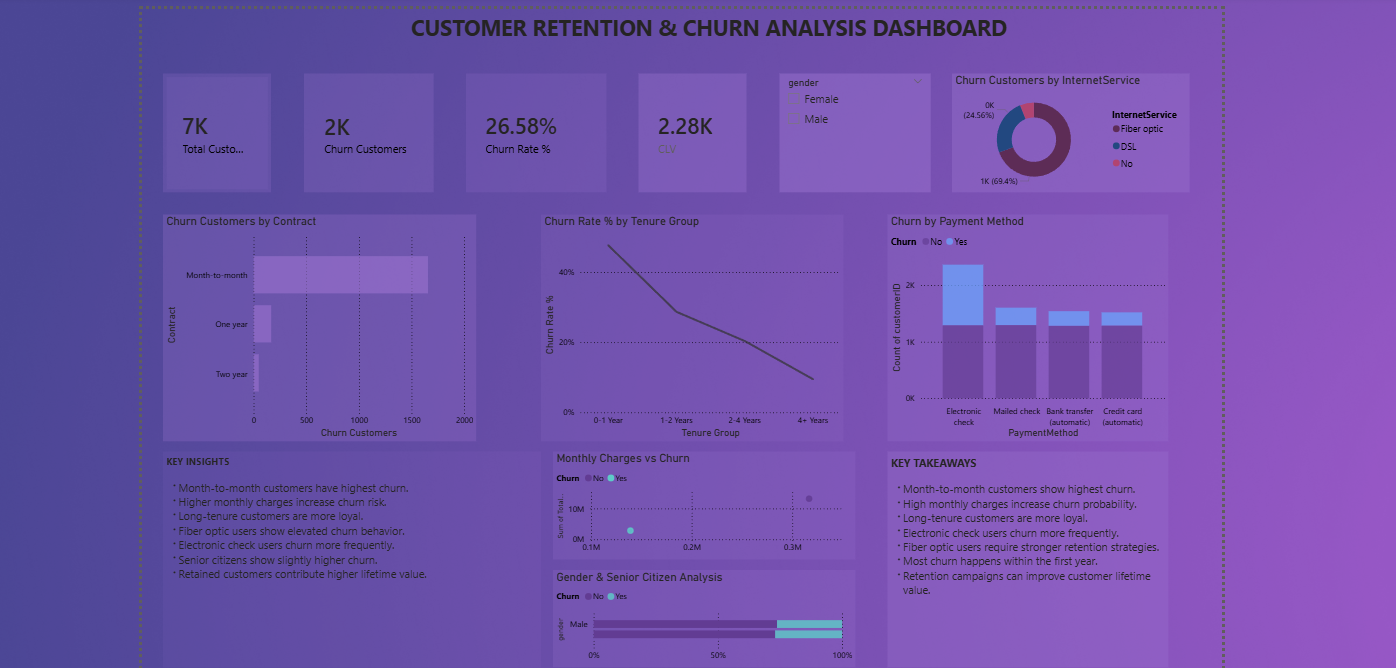

Layout of this report page (visuals, bound fields, positions):
{"tool":"powerbi","page":{"name":"Page 1","canvas":[1600,1000],"ordinal":0},"visuals":[{"type":"cardVisual","fields":{"Data":["WA_Fn-UseC_-Telco-Customer-Churn.Total Customers"]},"box":[32,96,160,176],"z":0},{"type":"cardVisual","fields":{"Data":["WA_Fn-UseC_-Telco-Customer-Churn.Churn Customers"]},"box":[240,96,192,176],"z":1000},{"type":"textbox","box":[360,0,960,72],"z":2000},{"type":"cardVisual","fields":{"Data":["WA_Fn-UseC_-Telco-Customer-Churn.Churn Rate %"]},"box":[480,96,208,176],"z":3000},{"type":"cardVisual","fields":{"Data":["WA_Fn-UseC_-Telco-Customer-Churn.CLV"]},"box":[736,96,160,176],"z":6000},{"type":"clusteredBarChart","fields":{"Category":["WA_Fn-UseC_-Telco-Customer-Churn.Contract"],"Y":["WA_Fn-UseC_-Telco-Customer-Churn.Churn Customers"]},"box":[32,304,464,336],"z":7000},{"type":"donutChart","fields":{"Category":["WA_Fn-UseC_-Telco-Customer-Churn.InternetService"],"Y":["WA_Fn-UseC_-Telco-Customer-Churn.Churn Customers"]},"box":[1200,96,352,176],"z":8000},{"type":"columnChart","title":"Churn by Payment Method","fields":{"Category":["WA_Fn-UseC_-Telco-Customer-Churn.PaymentMethod"],"Y":["CountNonNull(WA_Fn-UseC_-Telco-Customer-Churn.customerID)"],"Series":["WA_Fn-UseC_-Telco-Customer-Churn.Churn"]},"box":[1104,304,416,336],"z":9000},{"type":"lineChart","fields":{"Category":["WA_Fn-UseC_-Telco-Customer-Churn.Tenure Group"],"Y":["WA_Fn-UseC_-Telco-Customer-Churn.Churn Rate %"]},"box":[592,304,448,336],"z":10000},{"type":"scatterChart","title":"Monthly Charges vs Churn","fields":{"Series":["WA_Fn-UseC_-Telco-Customer-Churn.Churn"],"X":["Sum(WA_Fn-UseC_-Telco-Customer-Churn.MonthlyCharges)"],"Y":["Sum(WA_Fn-UseC_-Telco-Customer-Churn.TotalCharges)"]},"box":[608,656,448,160],"z":11000},{"type":"hundredPercentStackedBarChart","title":"Gender & Senior Citizen Analysis","fields":{"Series":["WA_Fn-UseC_-Telco-Customer-Churn.Churn"],"Category":["WA_Fn-UseC_-Telco-Customer-Churn.gender"],"Y":["CountNonNull(WA_Fn-UseC_-Telco-Customer-Churn.gender)"]},"box":[608,832,448,144],"z":12000},{"type":"slicer","fields":{"Values":["WA_Fn-UseC_-Telco-Customer-Churn.gender"]},"box":[944,96,224,176],"z":14000},{"type":"textbox","box":[32,656,560,320],"z":14001},{"type":"textbox","box":[1104,656,416,320],"z":14002}]}

Visuals, with their boxes on the page's 1600x1000 design canvas (x1, y1, x2, y2). These are canvas units, not pixel positions in the 1396x668 screenshot, which may show the page scaled, cropped or inside an application window:
cardVisual - WA_Fn-UseC_-Telco-Customer-Churn.Total Customers: [32, 96, 192, 272]
cardVisual - WA_Fn-UseC_-Telco-Customer-Churn.Churn Customers: [240, 96, 432, 272]
textbox: [360, 0, 1320, 72]
cardVisual - WA_Fn-UseC_-Telco-Customer-Churn.Churn Rate %: [480, 96, 688, 272]
cardVisual - WA_Fn-UseC_-Telco-Customer-Churn.CLV: [736, 96, 896, 272]
clusteredBarChart - WA_Fn-UseC_-Telco-Customer-Churn.Contract x WA_Fn-UseC_-Telco-Customer-Churn.Churn Customers: [32, 304, 496, 640]
donutChart - WA_Fn-UseC_-Telco-Customer-Churn.InternetService x WA_Fn-UseC_-Telco-Customer-Churn.Churn Customers: [1200, 96, 1552, 272]
"Churn by Payment Method" columnChart: [1104, 304, 1520, 640]
lineChart - WA_Fn-UseC_-Telco-Customer-Churn.Tenure Group x WA_Fn-UseC_-Telco-Customer-Churn.Churn Rate %: [592, 304, 1040, 640]
"Monthly Charges vs Churn" scatterChart: [608, 656, 1056, 816]
"Gender & Senior Citizen Analysis" hundredPercentStackedBarChart: [608, 832, 1056, 976]
slicer - WA_Fn-UseC_-Telco-Customer-Churn.gender: [944, 96, 1168, 272]
textbox: [32, 656, 592, 976]
textbox: [1104, 656, 1520, 976]
